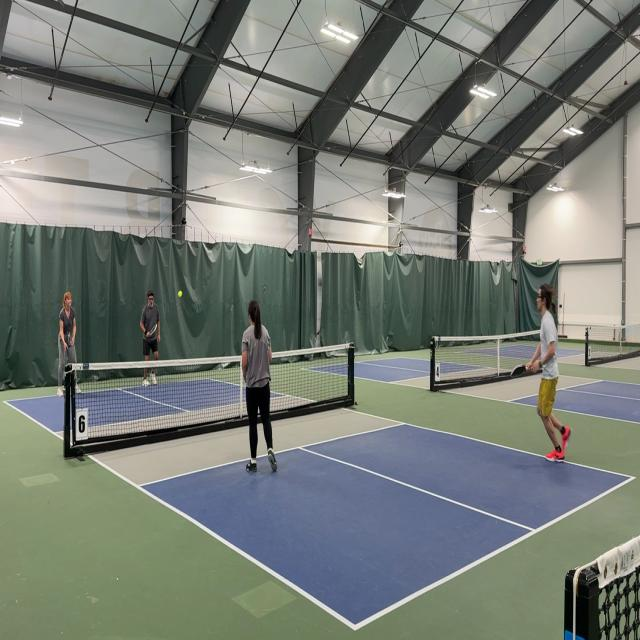ball: (177, 289, 183, 299)
